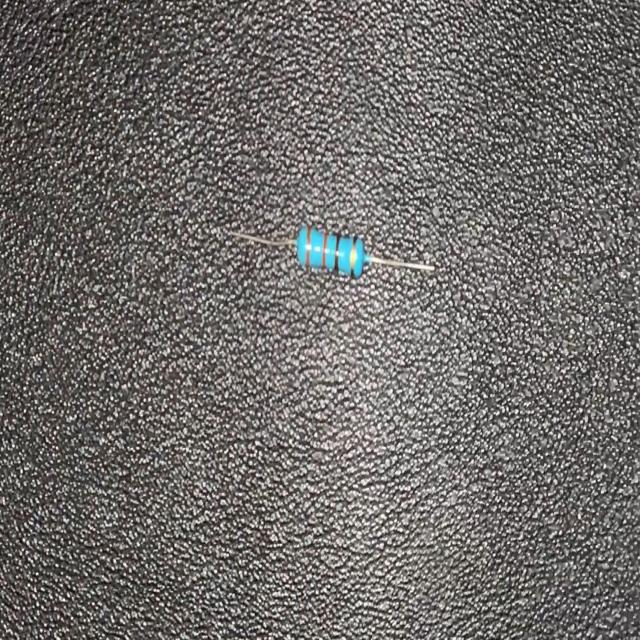resistor: (223, 220, 438, 286)
